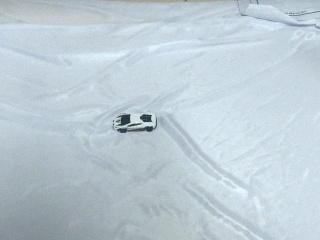toy_car: (113, 113, 157, 133)
